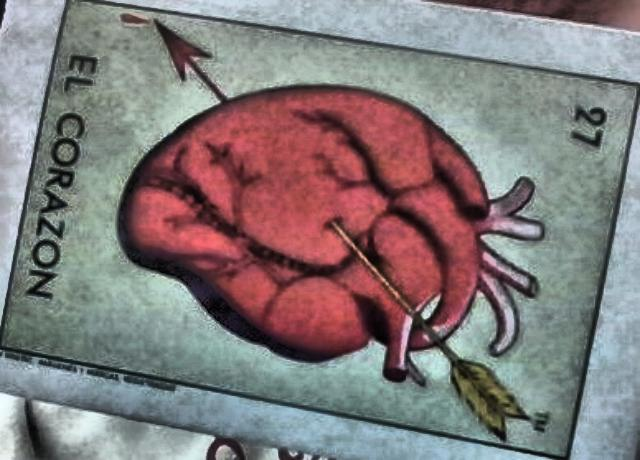El Corazon: (0, 0, 638, 459)
